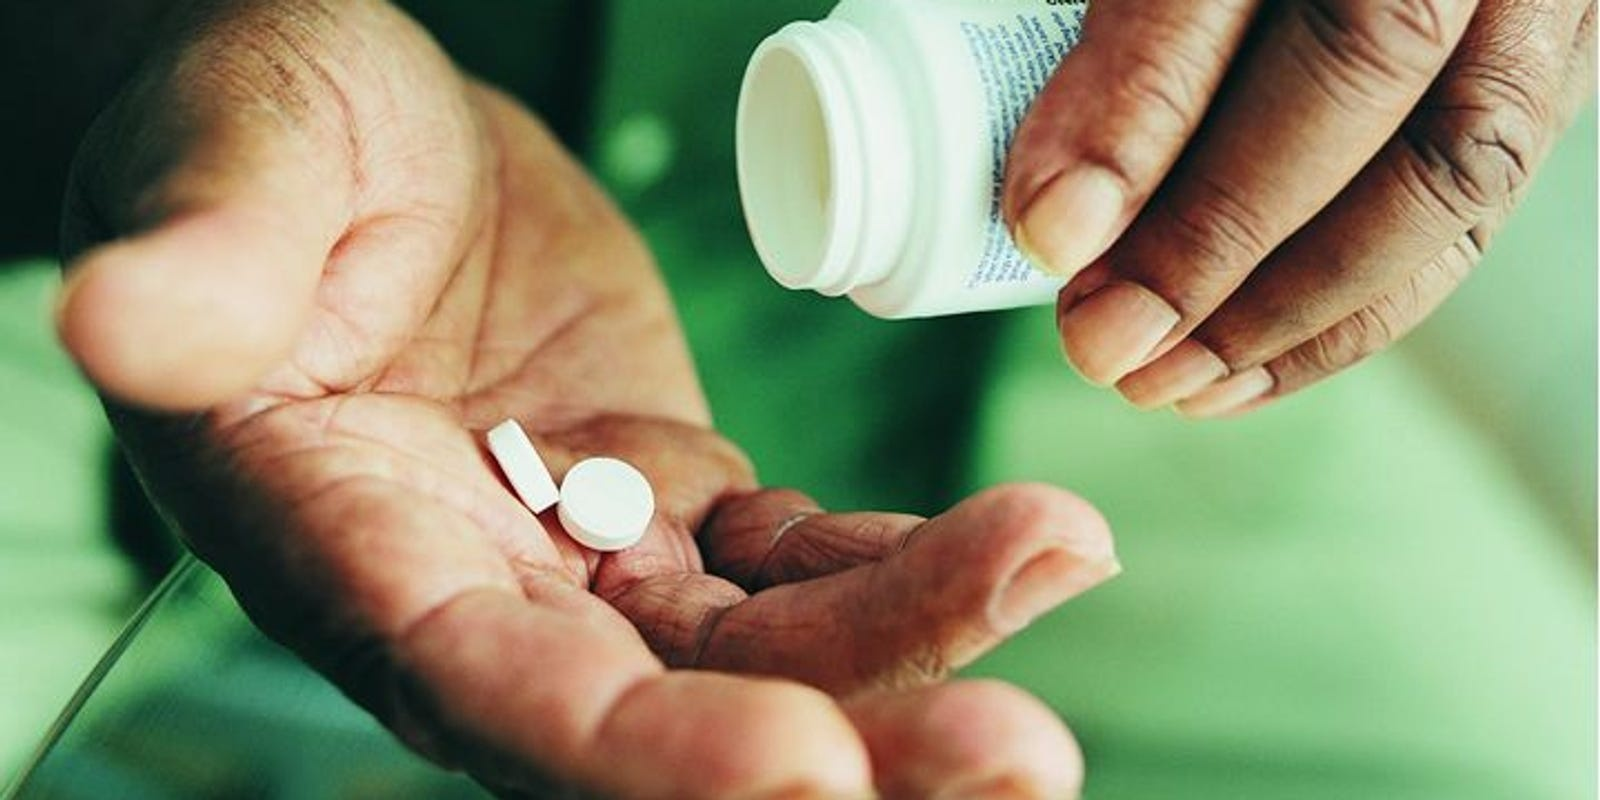pills: (563, 450, 652, 556), (483, 415, 563, 516)
